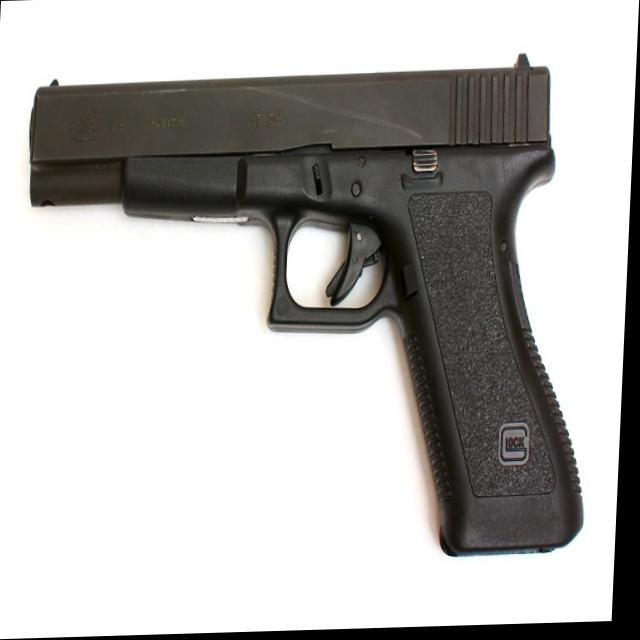handgun: (15, 60, 604, 569)
